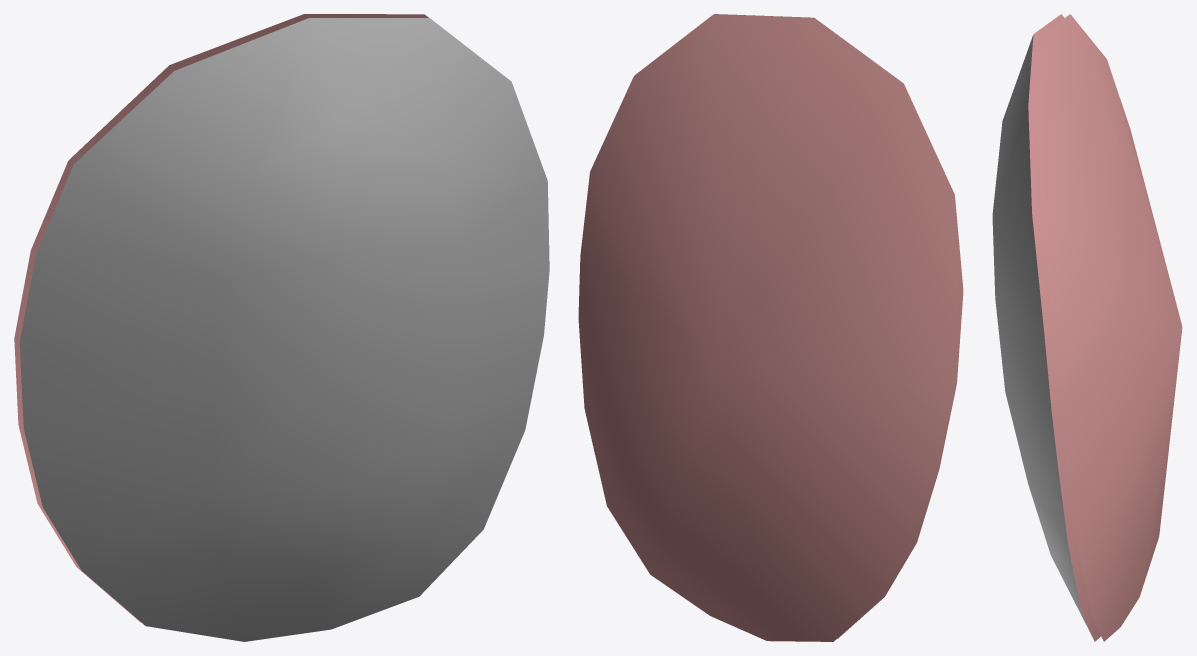
File: mesh_Eye0_R.fbx
3 renders of one model, left to right at view 1: azimuth 30°, elevation 25°; view 2: azimuth 150°, elevation 25°; view 3: azimuth 270°, elevation 25°, orthographic. The views are drawn at different scales.
Parts seen in each view (by area): view 1: mesh_Eye0_R_Cover, mesh_Eye0_R_back; view 2: mesh_Eye0_R_back, mesh_Eye0_R; view 3: mesh_Eye0_R_back, mesh_Eye0_R_Cover, mesh_Eye0_R.
Boxes of the visible parts, <box> form: mesh_Eye0_R_Cover: <box>19,18,549,641</box>; mesh_Eye0_R_back: <box>14,14,428,622</box>; mesh_Eye0_R_back: <box>578,17,958,641</box>; mesh_Eye0_R: <box>710,14,963,638</box>; mesh_Eye0_R_back: <box>1037,14,1182,641</box>; mesh_Eye0_R_Cover: <box>992,35,1094,641</box>; mesh_Eye0_R: <box>1028,14,1100,641</box>.
Size of the model in its own units: 5.2 by 6.91 by 2.1.
